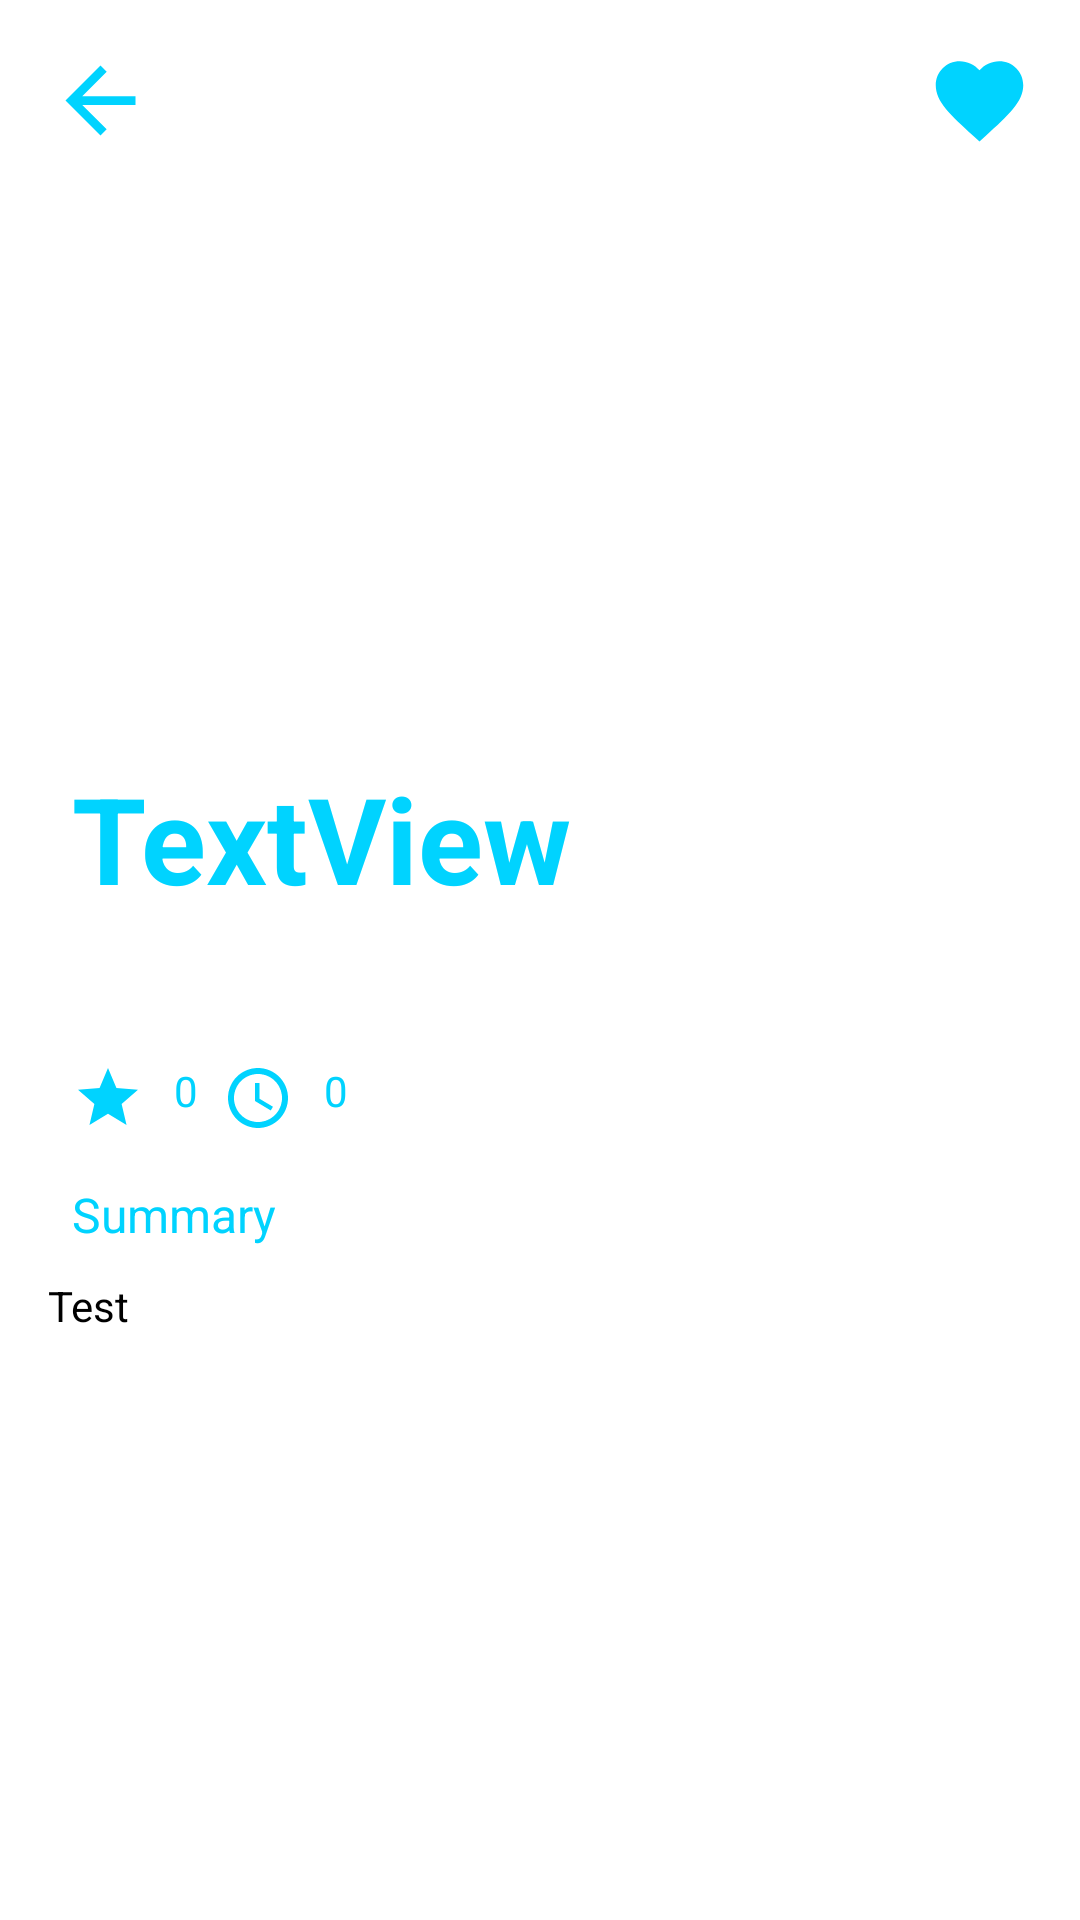

Screen size 1080×1920. Icon name, then its center in pixels as [x,y]:
arrow back: [100,100]
favorite: [979,101]
